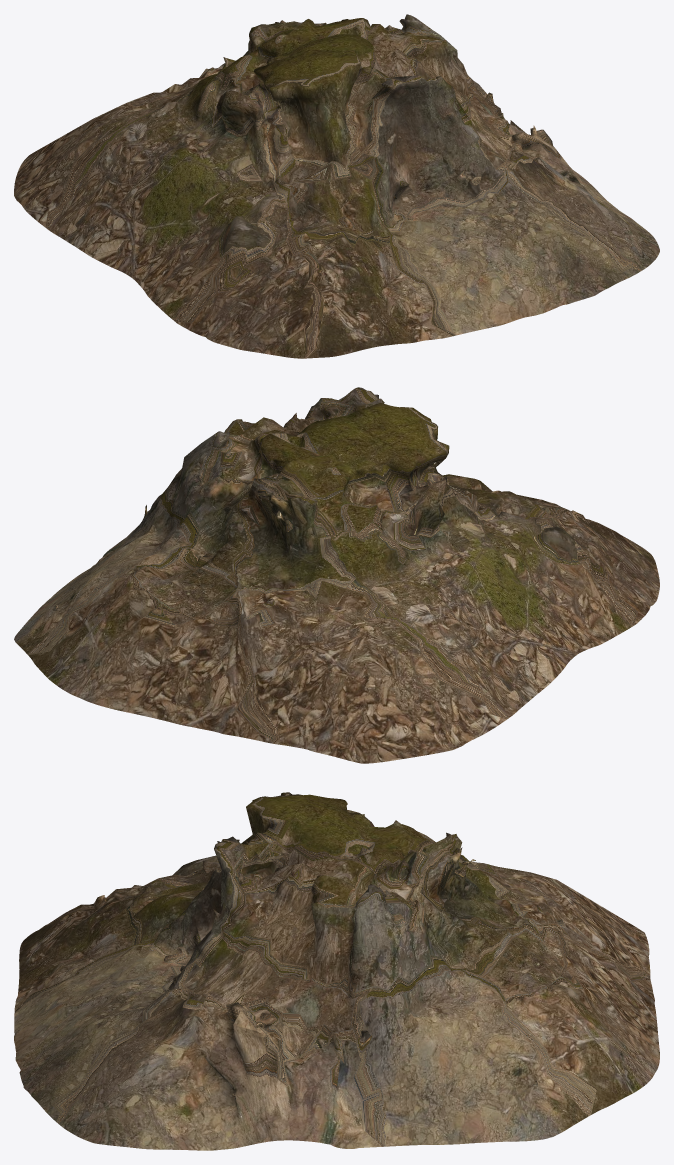
Rendered from stump.glb.
The picture shows the model from 3 angles, top to bottom: view 1: azimuth 30°, elevation 25°; view 2: azimuth 150°, elevation 25°; view 3: azimuth 270°, elevation 25°; orthographic projection. The views are drawn at different scales.
Parts seen in each view (by area): view 1: stump; view 2: stump; view 3: stump.
Part boxes in pixels (x1,y1,x2,y2): stump: (14, 14, 659, 358); stump: (14, 387, 659, 763); stump: (14, 792, 659, 1150).
Bounding box in the file's own units: 1.43 × 0.5711 × 1.59.
1 material, 1 textured.
